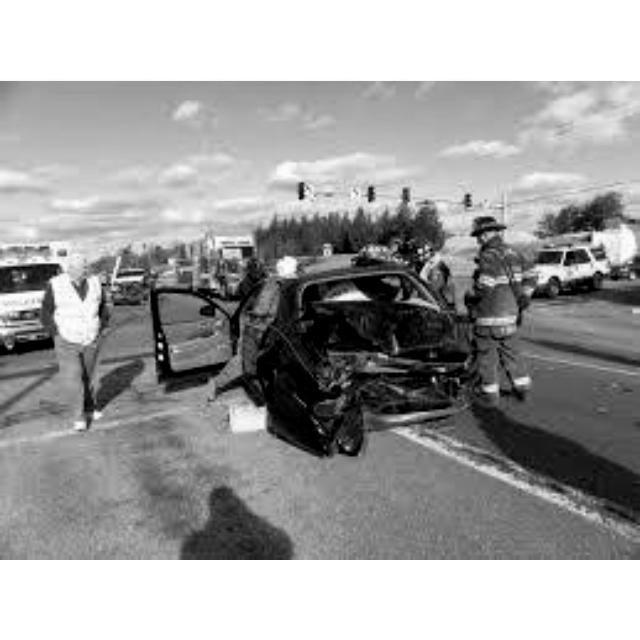Rear-windscreen-Damage: (294, 263, 432, 297)
rear-bumper-dent: (317, 372, 445, 428)
